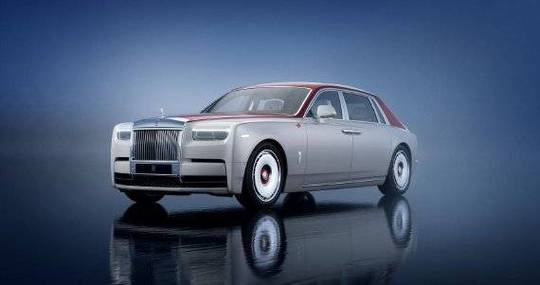汽车: (106, 74, 426, 216)
